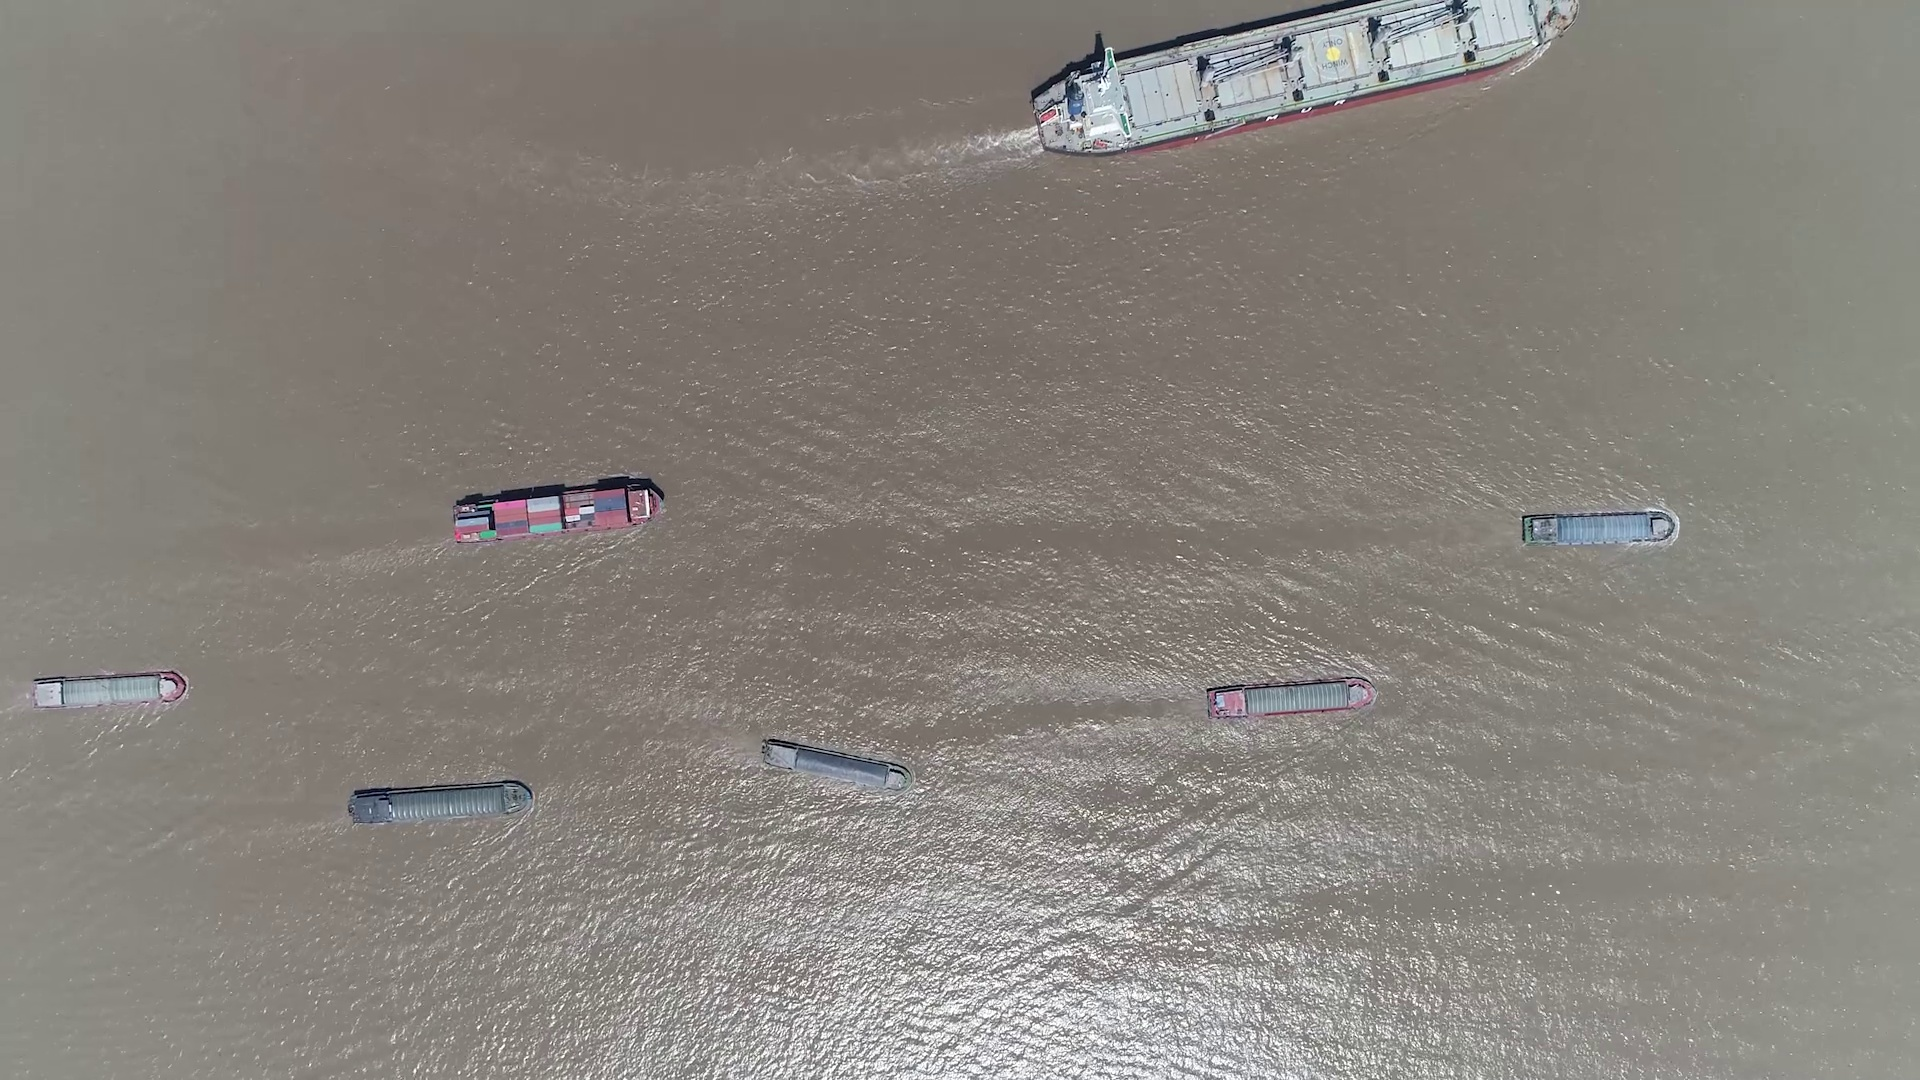ship: (1026, 0, 1580, 152), (452, 477, 663, 545), (760, 737, 910, 793), (348, 781, 531, 825), (1207, 678, 1377, 719), (30, 671, 186, 709), (1519, 512, 1676, 547)
